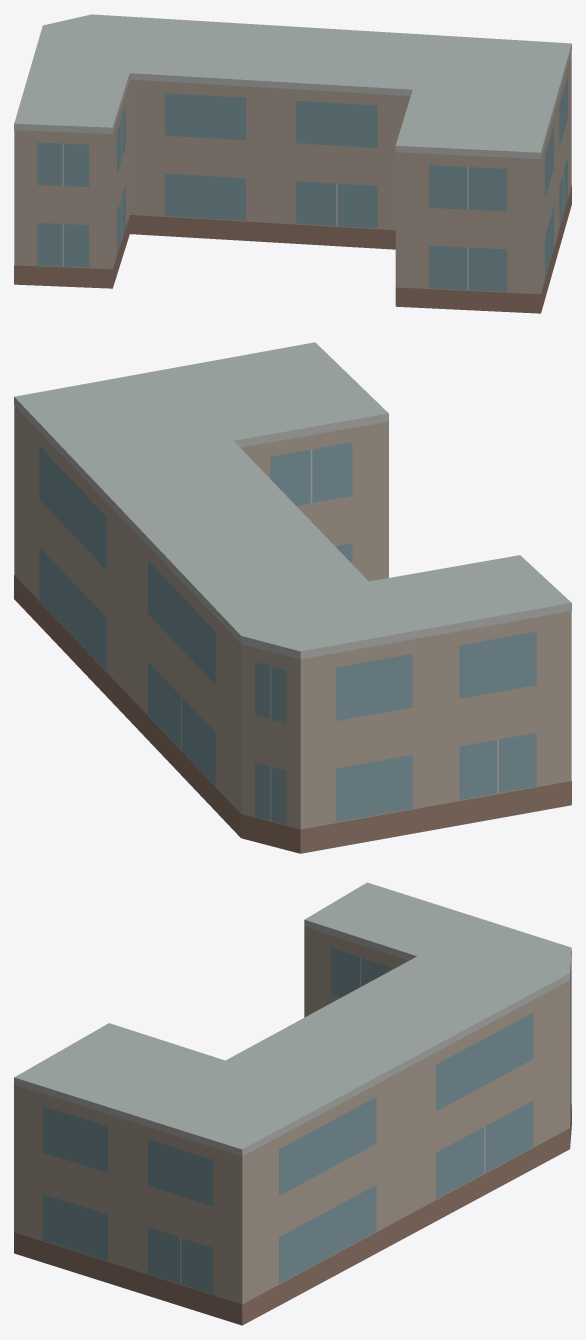
The model's file is survey-upis-32732199.glb.
3 renders of one model, top to bottom at view 1: azimuth 30°, elevation 25°; view 2: azimuth 150°, elevation 25°; view 3: azimuth 270°, elevation 25°, orthographic. The views are drawn at different scales.
Parts seen in each view (by area): view 1: survey-upis-32732199.tmp; view 2: survey-upis-32732199.tmp; view 3: survey-upis-32732199.tmp.
Part boxes in pixels (x1=…): survey-upis-32732199.tmp: x1=14, y1=14, x2=571, y2=313; survey-upis-32732199.tmp: x1=14, y1=342, x2=571, y2=853; survey-upis-32732199.tmp: x1=14, y1=882, x2=571, y2=1325.
Size of the model in its own units: 19.87 by 6.1 by 17.53.
